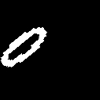chain: (1, 27, 46, 66)
